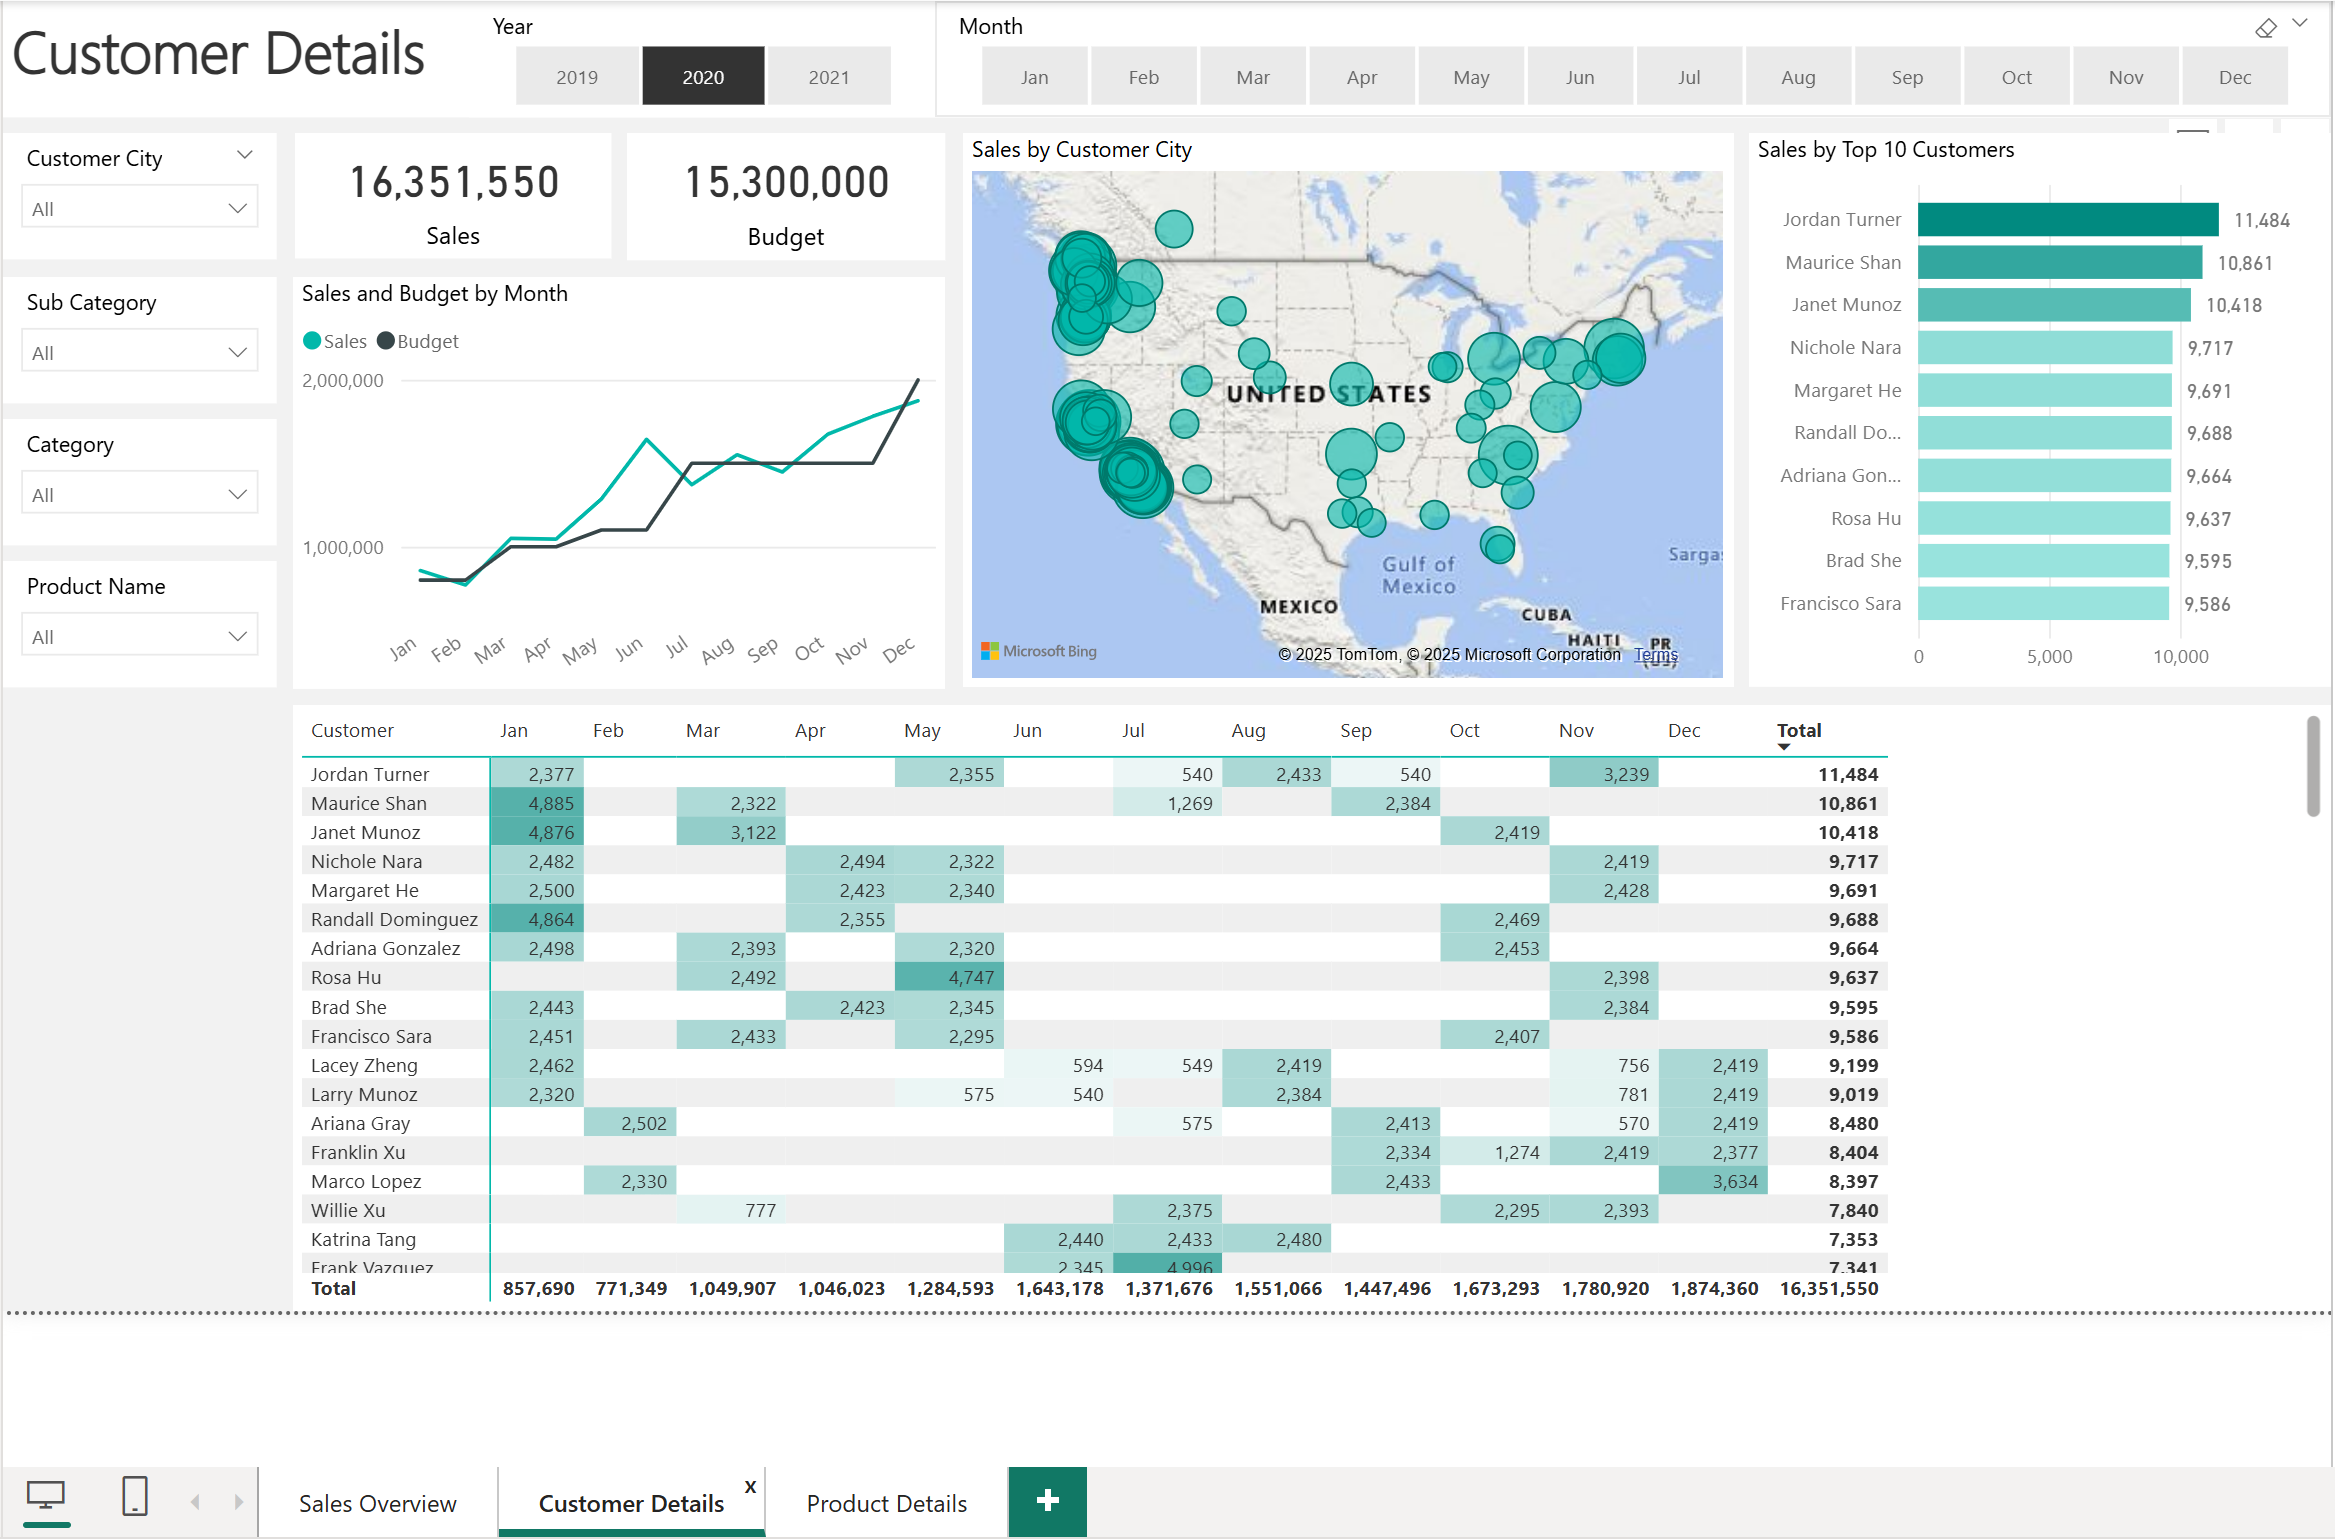

The page's visual inventory and layout, read from the dashboard file:
{"tool":"powerbi","page":{"name":"Customer Details","canvas":[1280,720],"ordinal":1},"visuals":[{"type":"textbox","box":[0,0,1280,64],"z":0},{"type":"slicer","fields":{"Values":["DIM_Calendar.Year"]},"box":[256,0,256,64],"z":1000},{"type":"slicer","fields":{"Values":["DIM_Calendar.MonthShort"]},"box":[512,0,768,64],"z":2000},{"type":"slicer","fields":{"Values":["DIM_Customers.Customer City"]},"box":[0,73,150.5,69.3],"z":3000},{"type":"slicer","fields":{"Values":["DIM_Products.Product Category"]},"box":[0,229.9,150.5,69.3],"z":4000},{"type":"slicer","fields":{"Values":["DIM_Products.Product Name"]},"box":[0,308.4,150.5,69.3],"z":5000},{"type":"slicer","fields":{"Values":["DIM_Products.Sub Category"]},"box":[0,151.4,150.5,69.3],"z":6000},{"type":"lineChart","fields":{"Category":["DIM_Calendar.MonthShort"],"Y":["Analysis Metrics.Sales","Analysis Metrics.Budget"]},"box":[159.8,151.8,358.7,226.4],"z":7000},{"type":"card","fields":{"Values":["Analysis Metrics.Sales"]},"box":[160.7,72.8,174,69.2],"z":8000},{"type":"map","fields":{"Category":["DIM_Customers.Customer City"],"Size":["Analysis Metrics.Sales"]},"box":[527.3,72.8,423.5,304.5],"z":9000},{"type":"card","fields":{"Values":["Analysis Metrics.Budget"]},"box":[343.6,72.8,174.9,70.1],"z":10000},{"type":"pivotTable","fields":{"Rows":["DIM_Customers.Full Name"],"Columns":["DIM_Calendar.MonthShort"],"Values":["Analysis Metrics.Sales"]},"box":[159.8,387.1,1120.4,332.9],"z":11000},{"type":"barChart","title":"Sales by Top 10 Customers","fields":{"Category":["DIM_Customers.Full Name"],"Y":["Analysis Metrics.Sales"]},"box":[959.7,72.8,320.5,304.5],"z":12000}]}

Visuals, with their boxes on the page's 1280x720 design canvas (x1, y1, x2, y2). These are canvas units, not pixel positions in the 2335x1539 screenshot, which may show the page scaled, cropped or inside an application window:
textbox: <region>0, 0, 1280, 64</region>
slicer - DIM_Calendar.Year: <region>256, 0, 512, 64</region>
slicer - DIM_Calendar.MonthShort: <region>512, 0, 1280, 64</region>
slicer - DIM_Customers.Customer City: <region>0, 73, 150, 142</region>
slicer - DIM_Products.Product Category: <region>0, 230, 150, 299</region>
slicer - DIM_Products.Product Name: <region>0, 308, 150, 378</region>
slicer - DIM_Products.Sub Category: <region>0, 151, 150, 221</region>
lineChart - DIM_Calendar.MonthShort x Analysis Metrics.Sales: <region>160, 152, 518, 378</region>
card - Analysis Metrics.Sales: <region>161, 73, 335, 142</region>
map - DIM_Customers.Customer City x Analysis Metrics.Sales: <region>527, 73, 951, 377</region>
card - Analysis Metrics.Budget: <region>344, 73, 518, 143</region>
pivotTable - DIM_Customers.Full Name x DIM_Calendar.MonthShort: <region>160, 387, 1280, 720</region>
"Sales by Top 10 Customers" barChart: <region>960, 73, 1280, 377</region>
